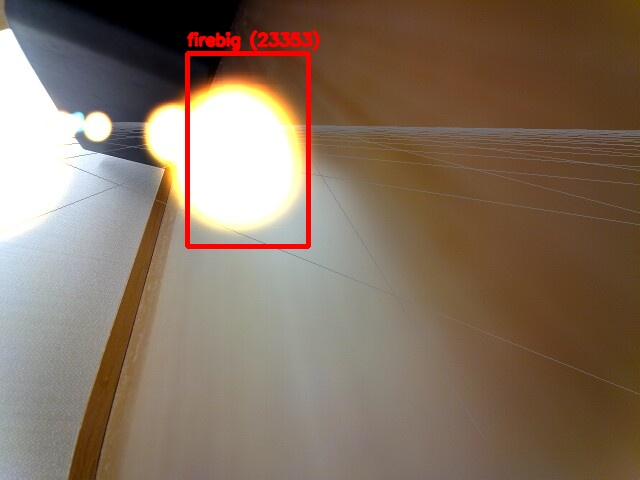firebig: (187, 53, 308, 246)
